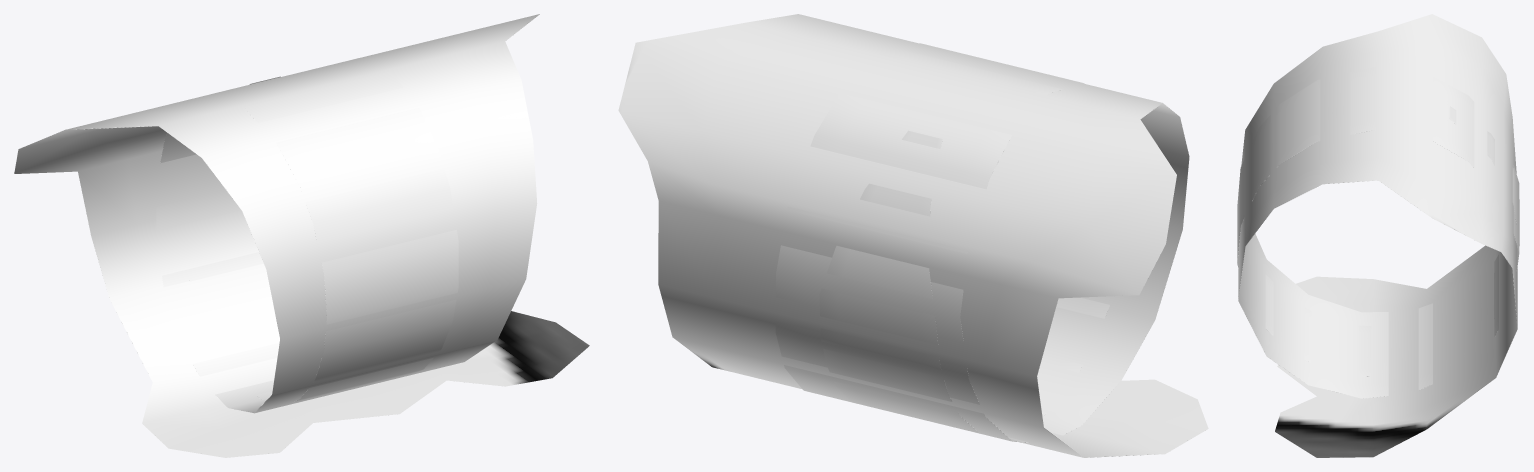
File: Level 200.fbx
3 views of the same model, side by side, from view 1: azimuth 30°, elevation 25°; view 2: azimuth 150°, elevation 25°; view 3: azimuth 270°, elevation 25° (orthographic). The views are drawn at different scales.
Parts seen in each view (by area): view 1: Blend; view 2: Blend; view 3: Blend.
Boxes of the visible parts, bbox=[...] form: Blend: bbox=[14, 14, 589, 457]; Blend: bbox=[618, 14, 1208, 457]; Blend: bbox=[1237, 14, 1519, 457].
Size of what is drawn, in the model's own units: 164 by 92.4 by 92.27.
